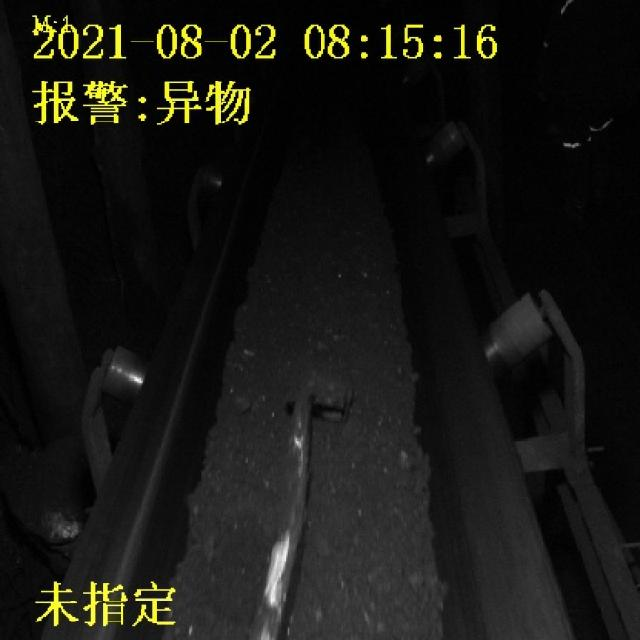bolt: (249, 381, 343, 637)
